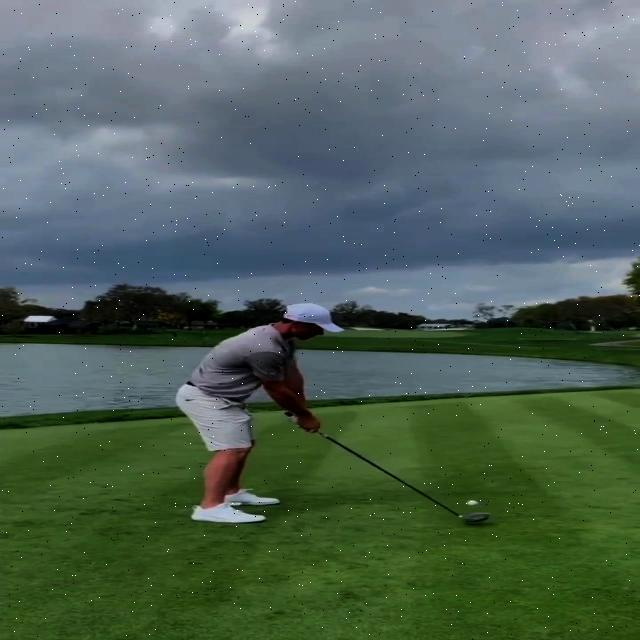ClubHead: (462, 512, 492, 522)
GolfBall: (467, 499, 480, 506)
